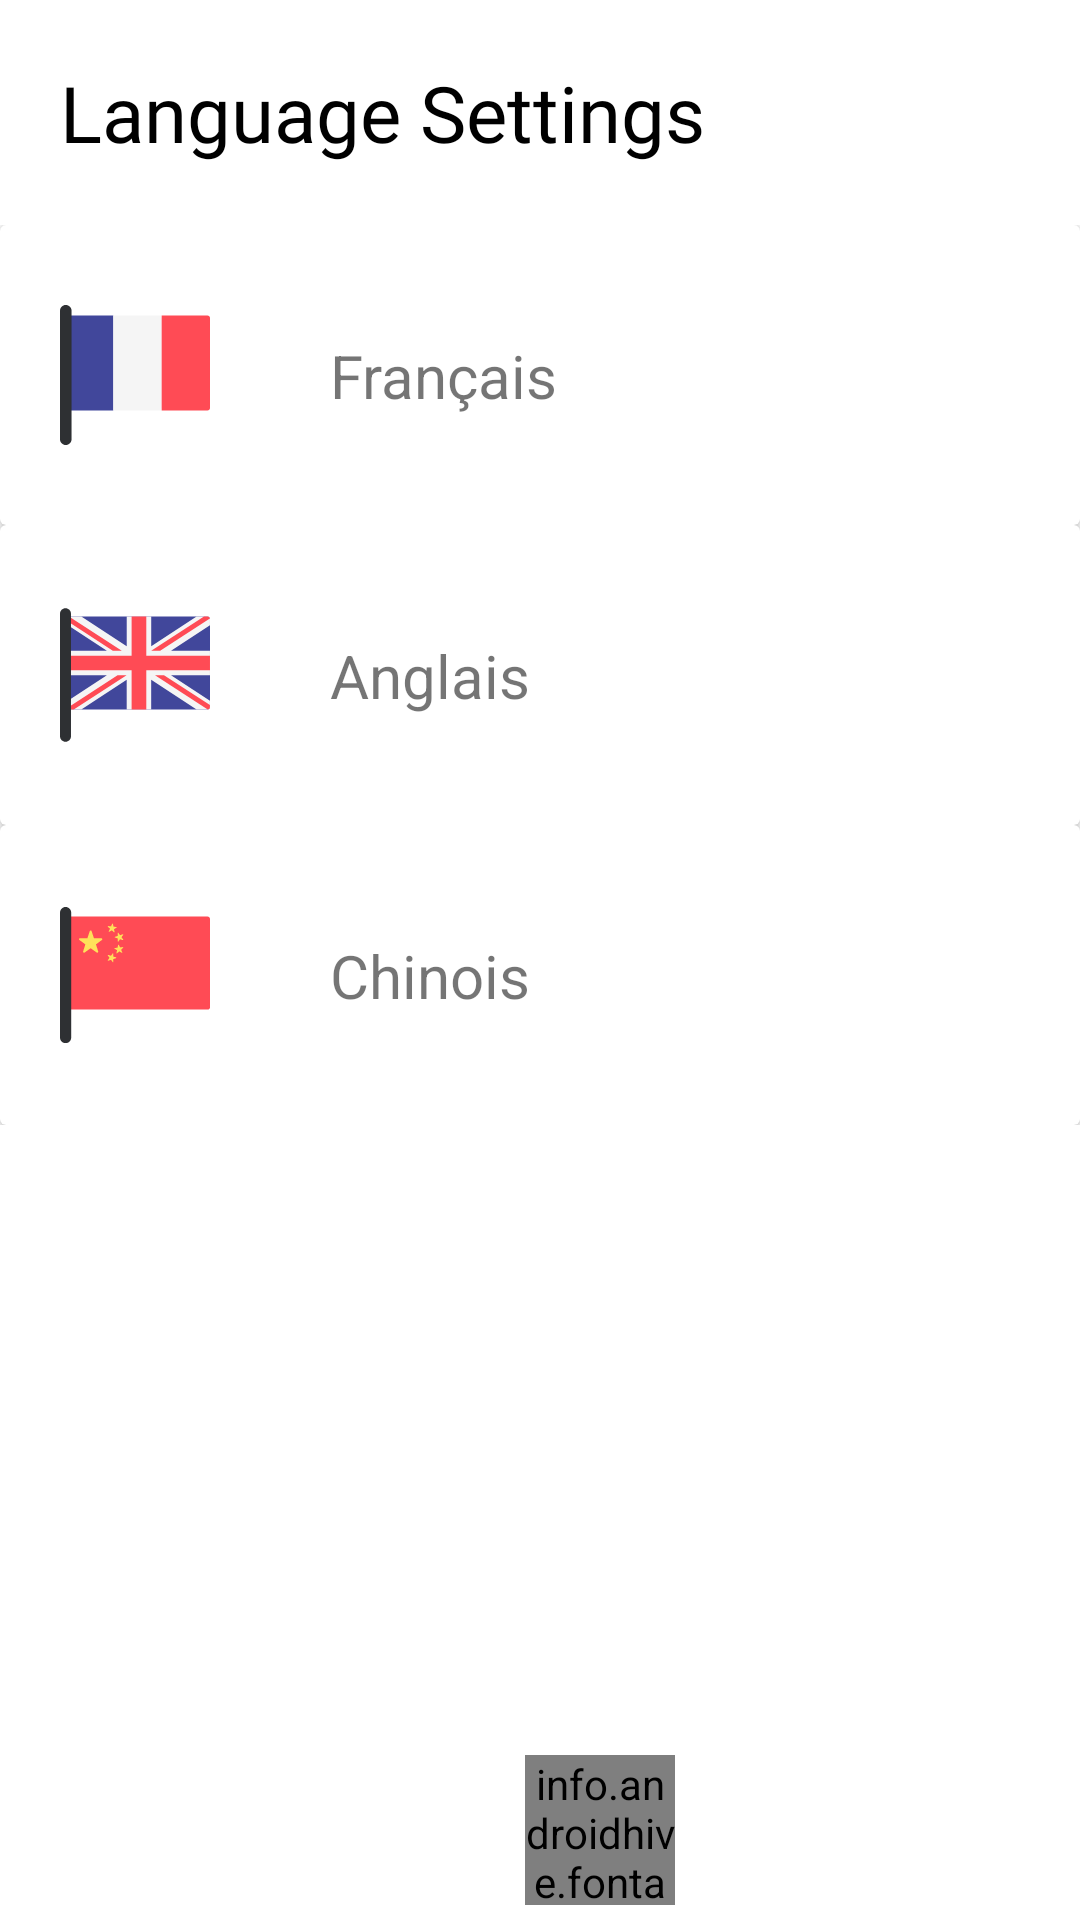

Locate icon controls on the screen. Image size 1080 × 1920, boxes as (x1, y1, x2, y2).
china flag: (60, 907, 210, 1043)
france flag: (60, 305, 210, 445)
united kingdom flag: (60, 608, 210, 742)
